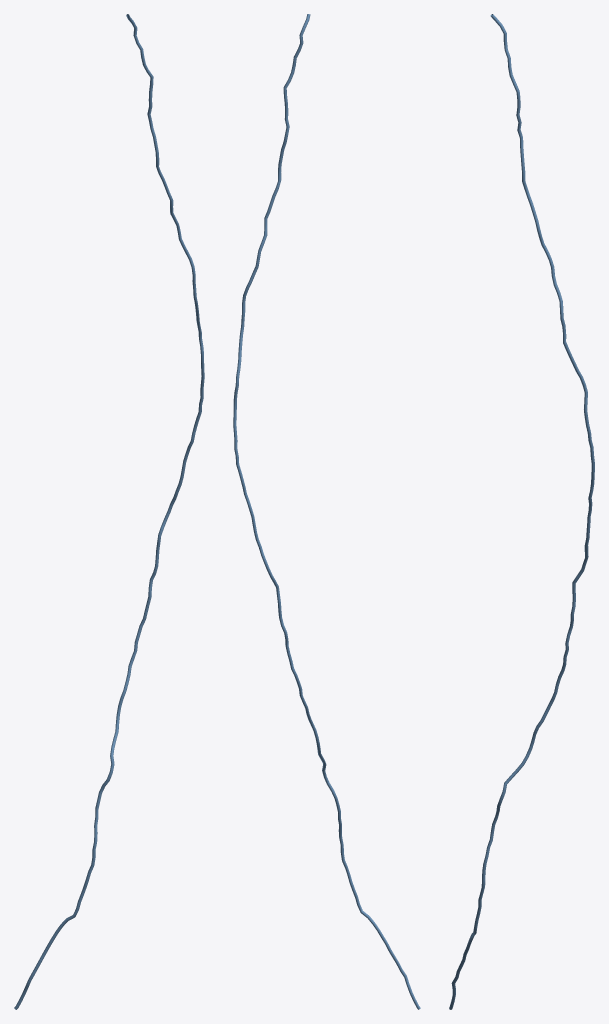
Rendered from sweep75.fbx.
3 renders of one model, left to right at view 1: azimuth 30°, elevation 25°; view 2: azimuth 210°, elevation 25°; view 3: azimuth 330°, elevation 25°, orthographic. The views are drawn at different scales.
Visible parts, largest first — view 1: sweep75; view 2: sweep75; view 3: sweep75.
Part boxes in pixels (<box>): sweep75: <box>14,14,204,1009</box>; sweep75: <box>233,14,420,1009</box>; sweep75: <box>449,14,594,1009</box>.
Bounding box in the file's own units: 1.13 × 6.62 × 0.4528.
